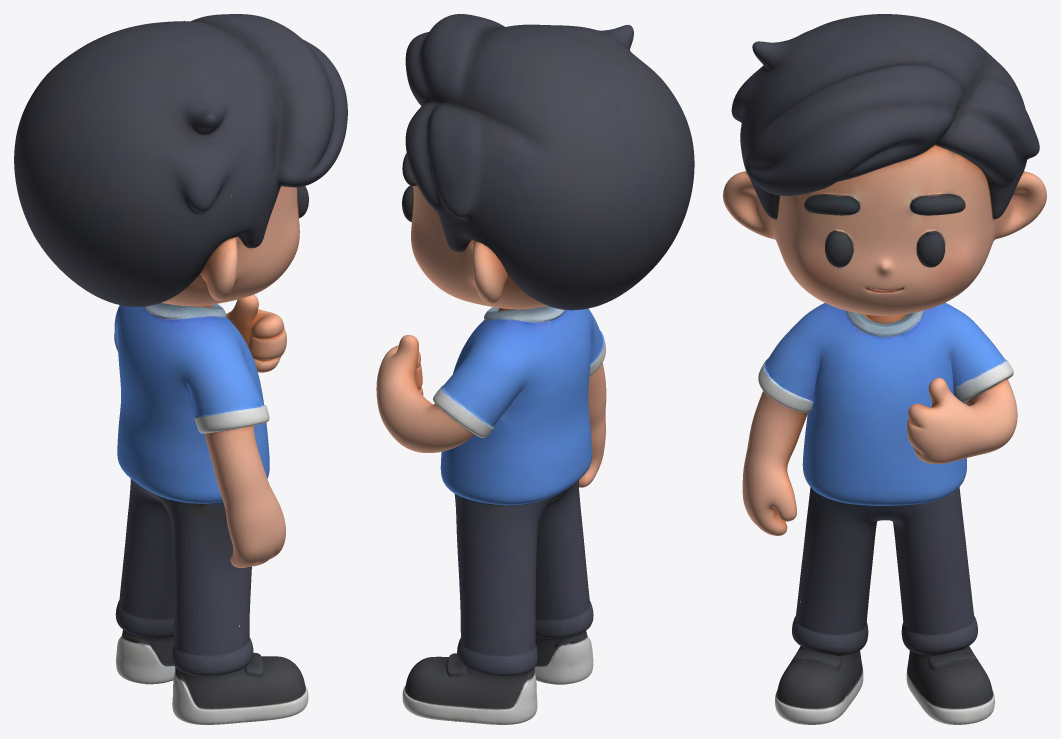
3 renders of one model, left to right at view 1: azimuth 30°, elevation 25°; view 2: azimuth 150°, elevation 25°; view 3: azimuth 270°, elevation 25°, orthographic.
Parts seen in each view (by area): view 1: tripo_node_dd0b79ed-37ca-4005-9c8d-faf014298c2d; view 2: tripo_node_dd0b79ed-37ca-4005-9c8d-faf014298c2d; view 3: tripo_node_dd0b79ed-37ca-4005-9c8d-faf014298c2d.
Part boxes in pixels (x1,y1,x2,y2): tripo_node_dd0b79ed-37ca-4005-9c8d-faf014298c2d: [14, 14, 347, 724]; tripo_node_dd0b79ed-37ca-4005-9c8d-faf014298c2d: [376, 14, 694, 724]; tripo_node_dd0b79ed-37ca-4005-9c8d-faf014298c2d: [723, 14, 1046, 724].
Size of the model in its own units: 0.4434 by 1 by 0.4497.
1 material, 1 textured.
